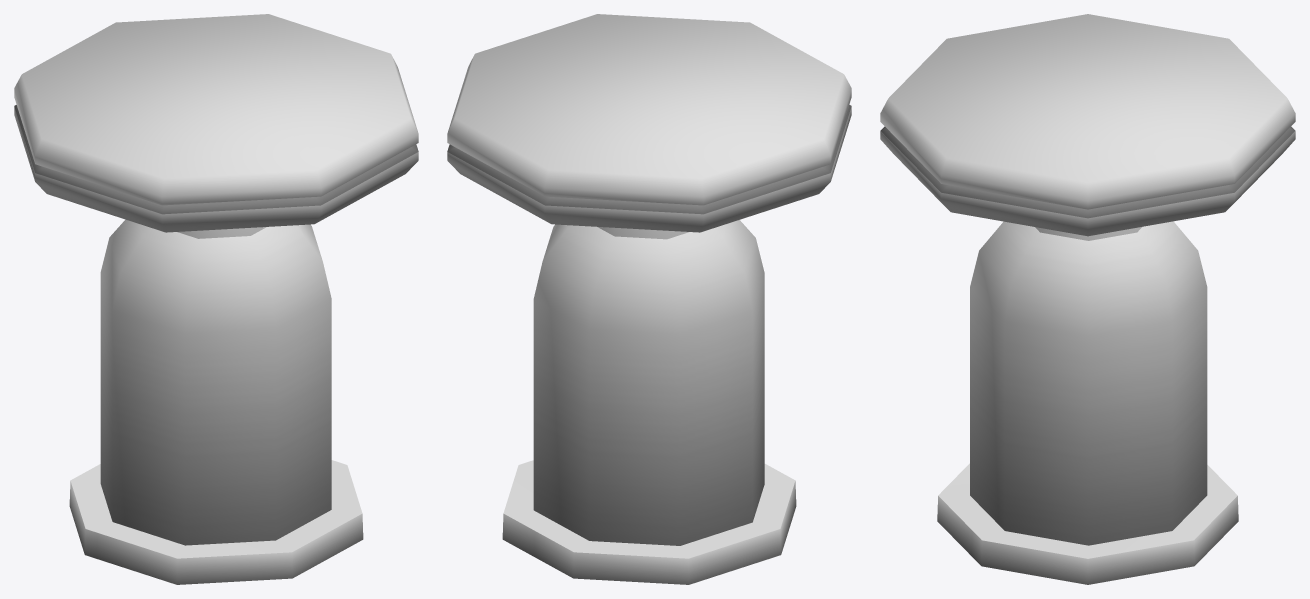
File: stone_grip_058.glb
3 renders of one model, left to right at view 1: azimuth 30°, elevation 25°; view 2: azimuth 150°, elevation 25°; view 3: azimuth 270°, elevation 25°, orthographic.
Visible parts, largest first — view 1: stone_grip.058; view 2: stone_grip.058; view 3: stone_grip.058.
Boxes of the visible parts, bbox=[...] form: stone_grip.058: bbox=[14, 14, 418, 584]; stone_grip.058: bbox=[447, 14, 851, 584]; stone_grip.058: bbox=[880, 14, 1295, 584].
Size of the model in its own units: 2.94 by 3.31 by 2.94.
1 material, 1 textured.
